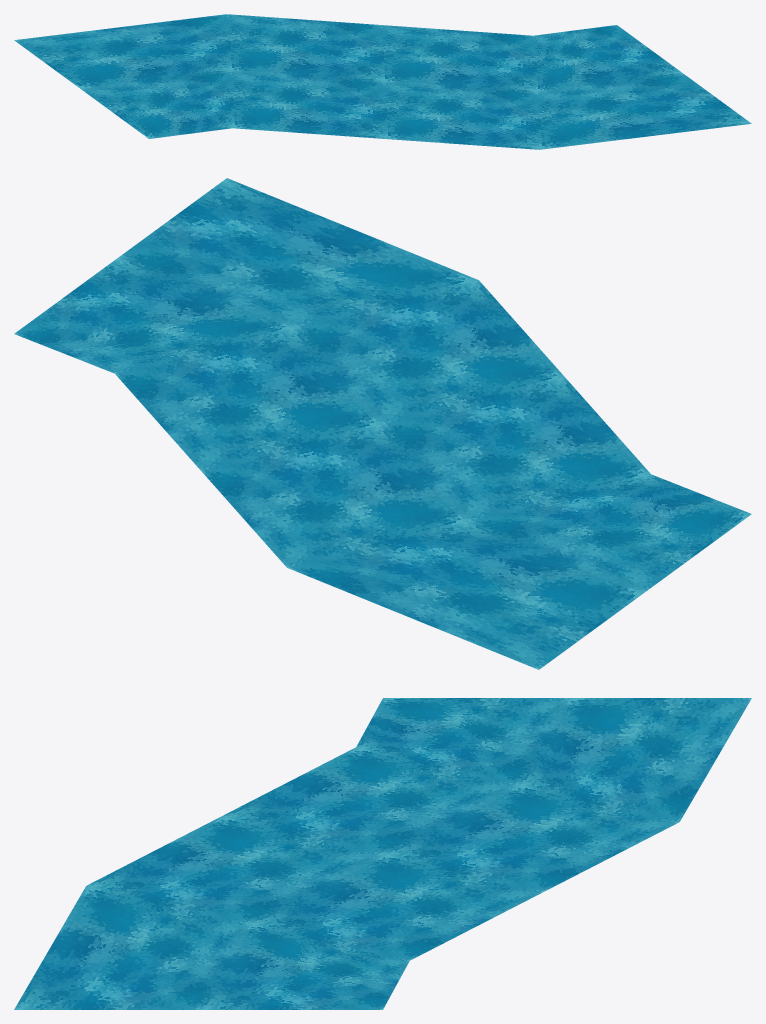
Rendered from Terrain_Water_River_Esse_CW_4x4.fbx.
3 renders of one model, top to bottom at view 1: azimuth 30°, elevation 25°; view 2: azimuth 150°, elevation 25°; view 3: azimuth 270°, elevation 25°, orthographic. The views are drawn at different scales.
Parts seen in each view (by area): view 1: Terrain_Water_River_Esse_CW_4x4; view 2: Terrain_Water_River_Esse_CW_4x4; view 3: Terrain_Water_River_Esse_CW_4x4.
Part boxes in pixels (<box>): Terrain_Water_River_Esse_CW_4x4: <box>14,14,751,149</box>; Terrain_Water_River_Esse_CW_4x4: <box>14,178,751,669</box>; Terrain_Water_River_Esse_CW_4x4: <box>14,698,751,1009</box>.
Size of the model in its own units: 400 by 9.43e-05 by 400.
